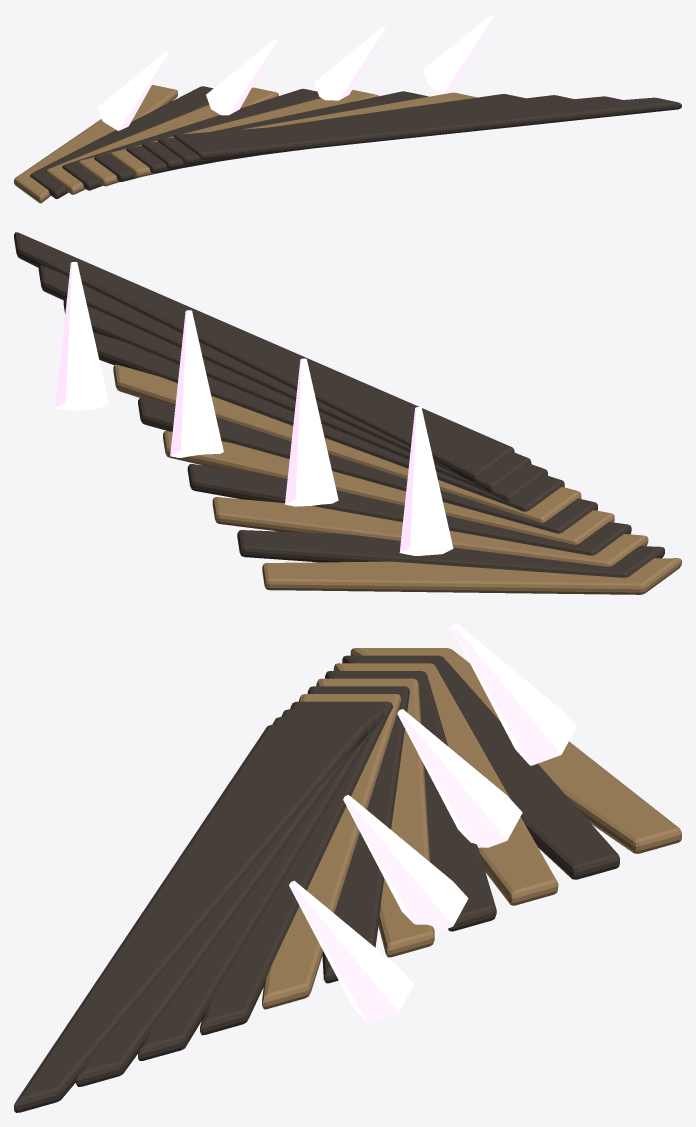
File: SM_Keeper_Sokar_Wing1.fbx
3 renders of one model, top to bottom at view 1: azimuth 30°, elevation 25°; view 2: azimuth 150°, elevation 25°; view 3: azimuth 270°, elevation 25°, orthographic. The views are drawn at different scales.
Visible parts, largest first — view 1: SM_Keeper_Sokar_Wing1; view 2: SM_Keeper_Sokar_Wing1; view 3: SM_Keeper_Sokar_Wing1.
Boxes of the visible parts, bbox=[...] form: SM_Keeper_Sokar_Wing1: bbox=[14, 14, 681, 203]; SM_Keeper_Sokar_Wing1: bbox=[14, 232, 681, 594]; SM_Keeper_Sokar_Wing1: bbox=[14, 623, 681, 1112].
Size of the model in its own units: 4.41 by 0.7245 by 2.47.
